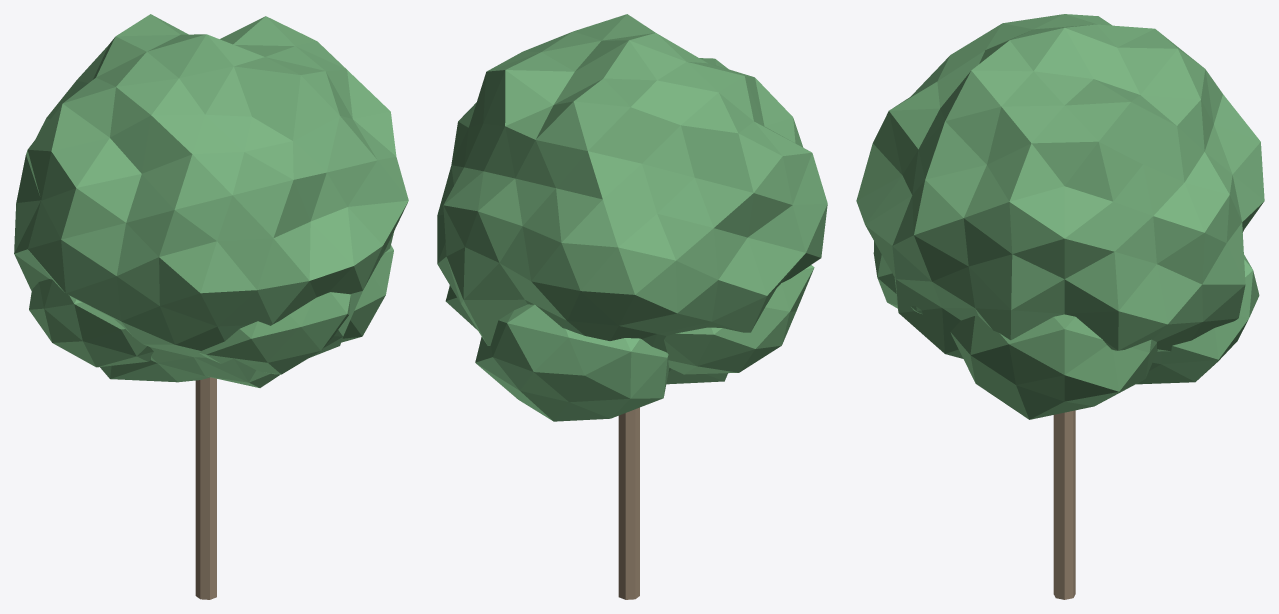
The model's file is large_tree.glb.
The picture shows the model from 3 angles, left to right: view 1: azimuth 30°, elevation 25°; view 2: azimuth 150°, elevation 25°; view 3: azimuth 270°, elevation 25°; orthographic projection. The views are drawn at different scales.
Visible parts, largest first — view 1: part_1, part_5, part_4, part_0, part_2; view 2: part_1, part_3, part_4, part_0; view 3: part_1, part_2, part_0, part_3, part_5.
Part boxes in pixels (x1,y1,x2,y2): part_1: (14, 14, 408, 387); part_5: (198, 292, 350, 374); part_4: (29, 279, 153, 367); part_0: (195, 377, 216, 599); part_2: (341, 245, 393, 342); part_1: (437, 14, 827, 384); part_3: (475, 304, 669, 421); part_4: (664, 265, 814, 374); part_0: (618, 407, 639, 599); part_1: (856, 14, 1264, 358); part_2: (950, 314, 1157, 419); part_0: (1053, 410, 1075, 599); part_3: (1136, 255, 1259, 384); part_5: (873, 241, 922, 314).
Bounding box in the file's own units: 12.76 × 19.43 × 12.67.
